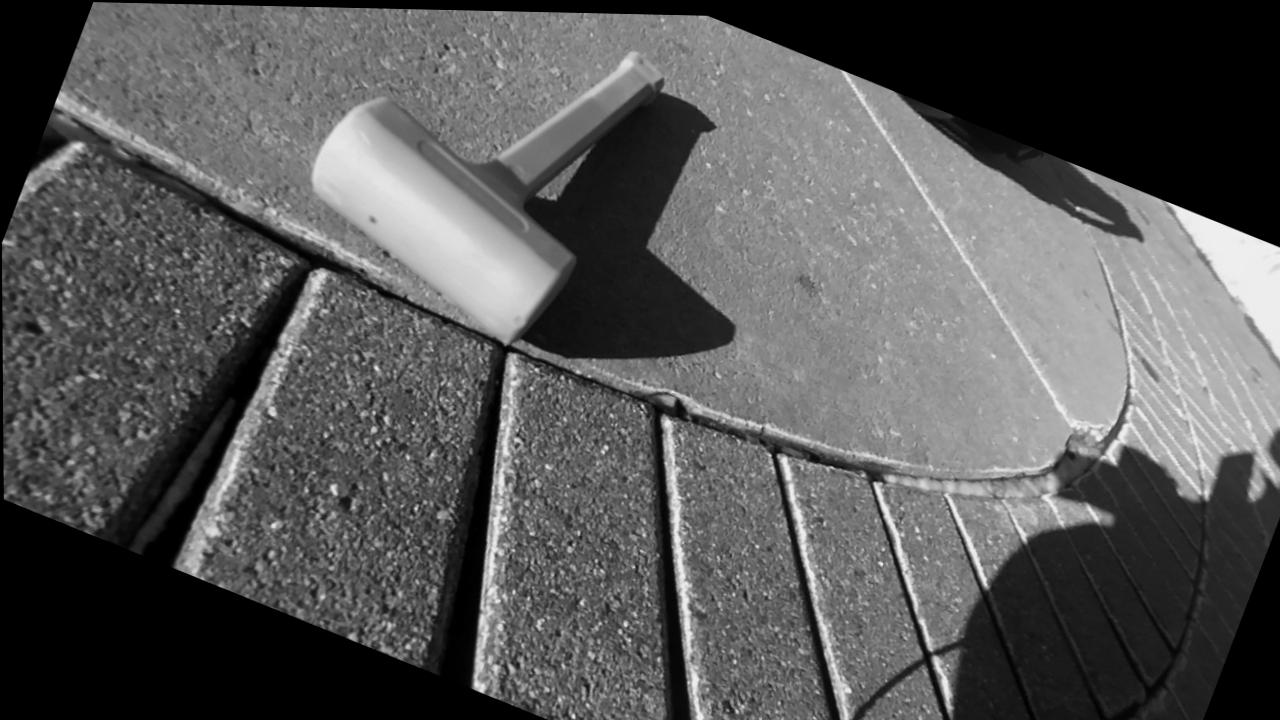mallet: (311, 52, 662, 343)
